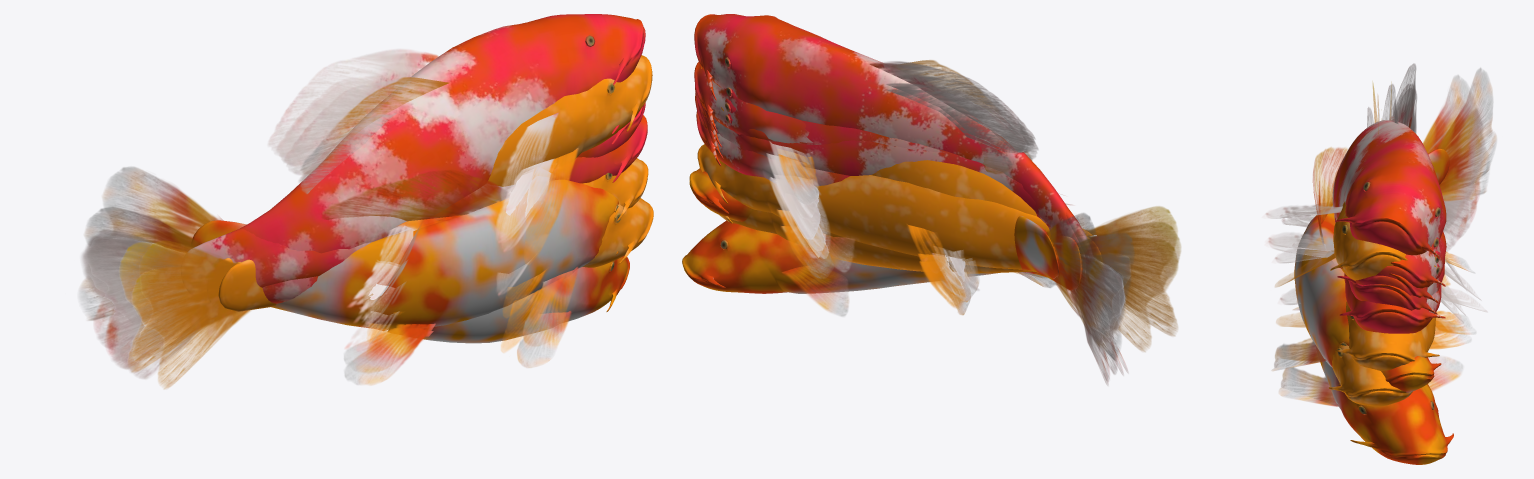
Rendered from koi_fish_1.glb.
The picture shows the model from 3 angles, left to right: view 1: azimuth 30°, elevation 25°; view 2: azimuth 150°, elevation 25°; view 3: azimuth 270°, elevation 25°; orthographic projection. The views are drawn at different scales.
Visible parts, largest first — view 1: koi6, koi3, koi2, koi0, koi5, koi1, koi9, koi7, koi4, koi8; view 2: koi6, koi4, koi0, koi5, koi2, koi8, koi3, koi1, koi7, koi9; view 3: koi6, koi0, koi3, koi8, koi4, koi9, koi1, koi2, koi5, koi7.
Part boxes in pixels (x1,y1,x2,y2): koi6: [85, 14, 645, 378]; koi3: [79, 170, 618, 385]; koi2: [132, 55, 652, 388]; koi0: [103, 166, 629, 373]; koi5: [82, 81, 645, 368]; koi1: [134, 198, 653, 360]; koi9: [87, 113, 647, 350]; koi7: [83, 76, 639, 369]; koi4: [120, 158, 648, 371]; koi8: [86, 77, 613, 359]; koi6: [694, 14, 1120, 385]; koi4: [697, 137, 1180, 335]; koi0: [682, 213, 1108, 336]; koi5: [695, 89, 1128, 373]; koi2: [701, 60, 1177, 351]; koi8: [694, 62, 1123, 381]; koi3: [689, 151, 1134, 360]; koi1: [719, 206, 1177, 325]; koi7: [695, 83, 1124, 375]; koi9: [696, 103, 1130, 374]; koi6: [1265, 63, 1484, 290]; koi0: [1279, 67, 1496, 464]; koi3: [1272, 75, 1488, 392]; koi8: [1275, 84, 1481, 300]; koi4: [1276, 86, 1476, 370]; koi9: [1280, 97, 1487, 333]; koi1: [1280, 83, 1471, 406]; koi2: [1275, 96, 1474, 286]; koi5: [1268, 88, 1481, 322]; koi7: [1268, 84, 1482, 315].
Size of the model in its own units: 1 by 0.6439 by 0.4467.
1 material, 1 textured.
